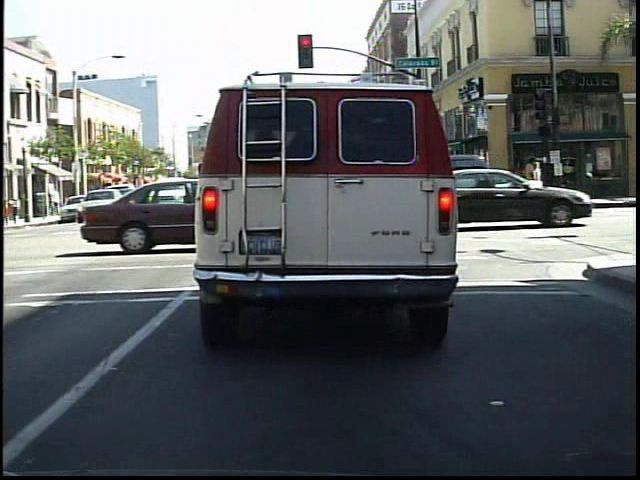person: (537, 153, 559, 204), (511, 160, 531, 206)
